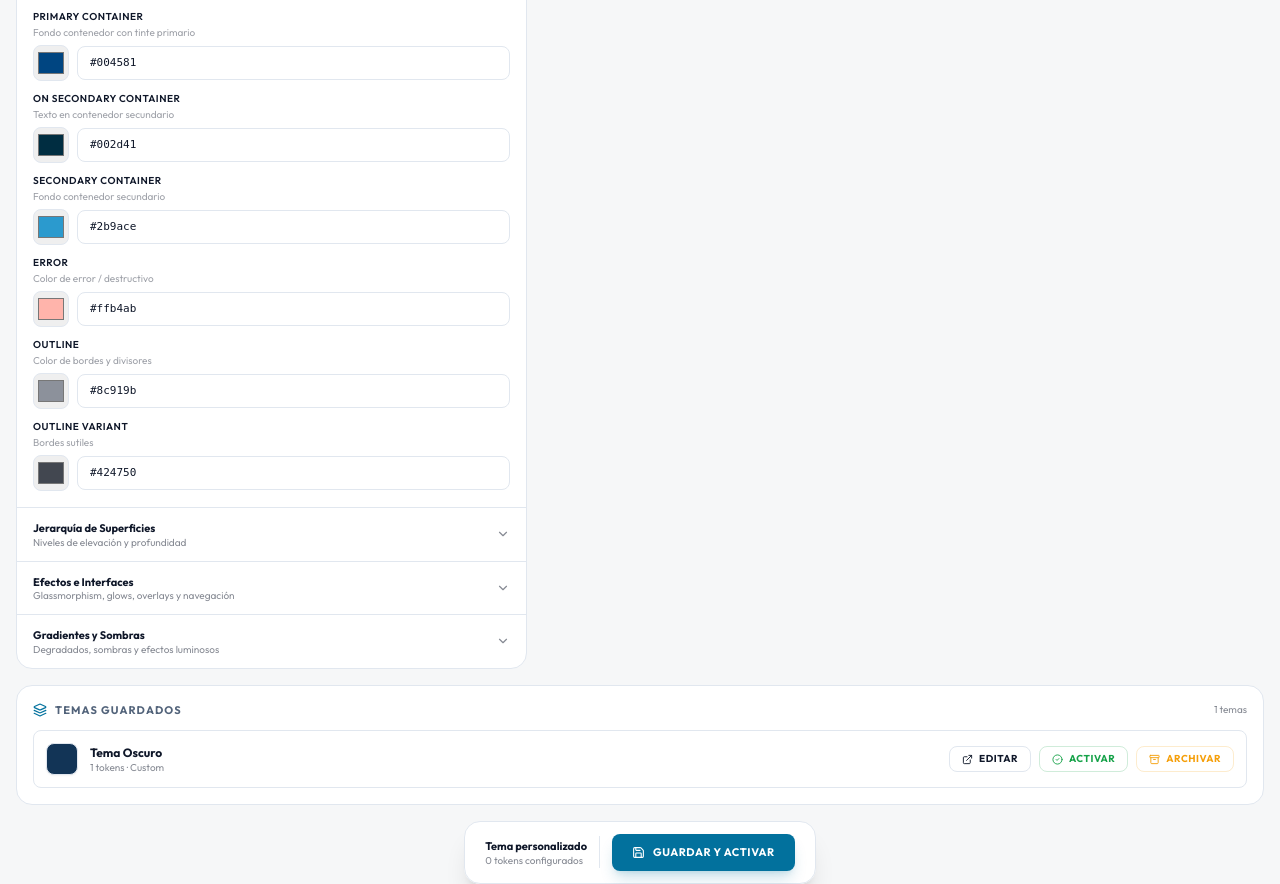
Test case: CmsThemesPage › activa un tema inactivo
(page scrolled)
Expected: the text "Tema Oscuro" is shown, [90,744,164,762]
Click the button "Activar".
click(1084, 759)  # box [1039,746,1128,772]
(page scrolled)
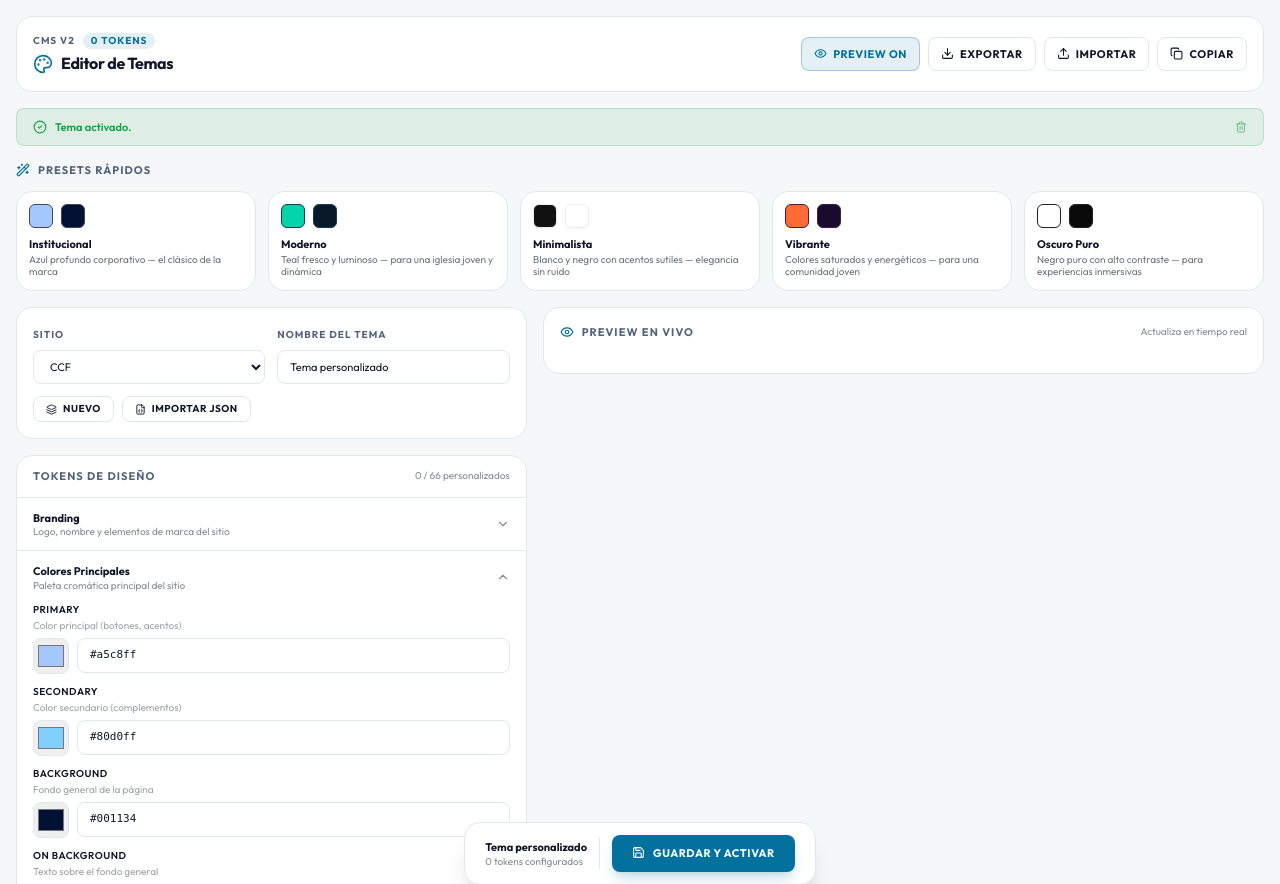
Now the text "Tema activado." is shown, box [16,108,1264,146]
